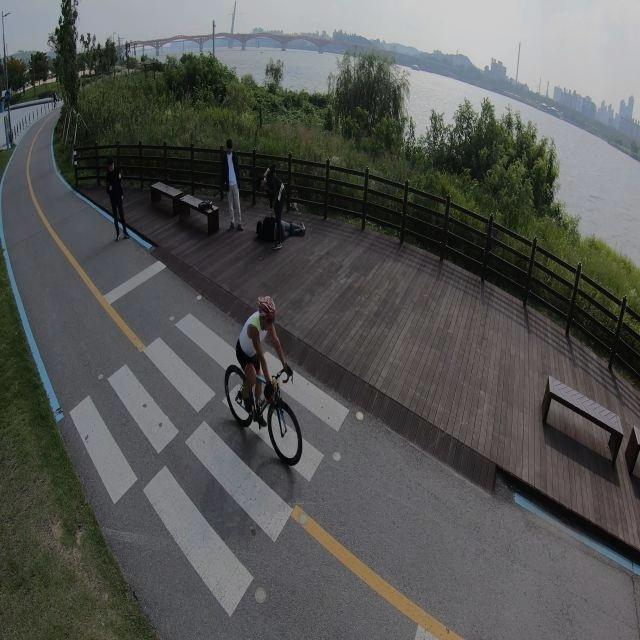fight: (254, 163, 303, 247)
non-fight: (232, 293, 297, 457), (104, 158, 128, 241), (222, 137, 243, 229)
